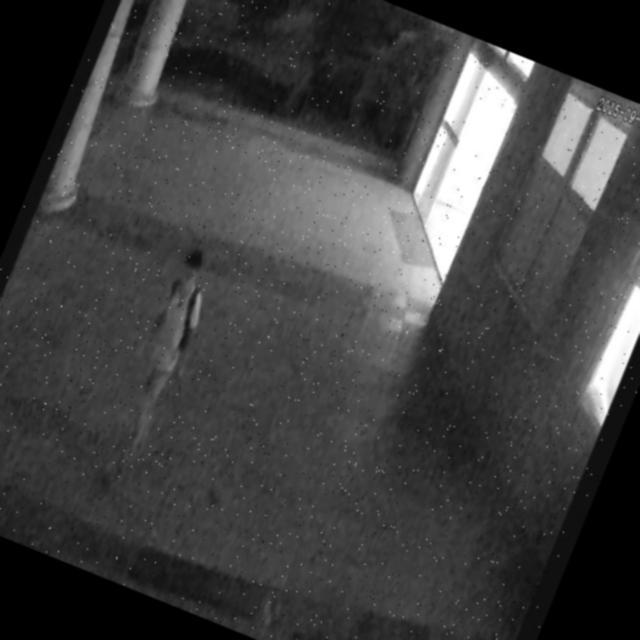person: (64, 218, 239, 520)
